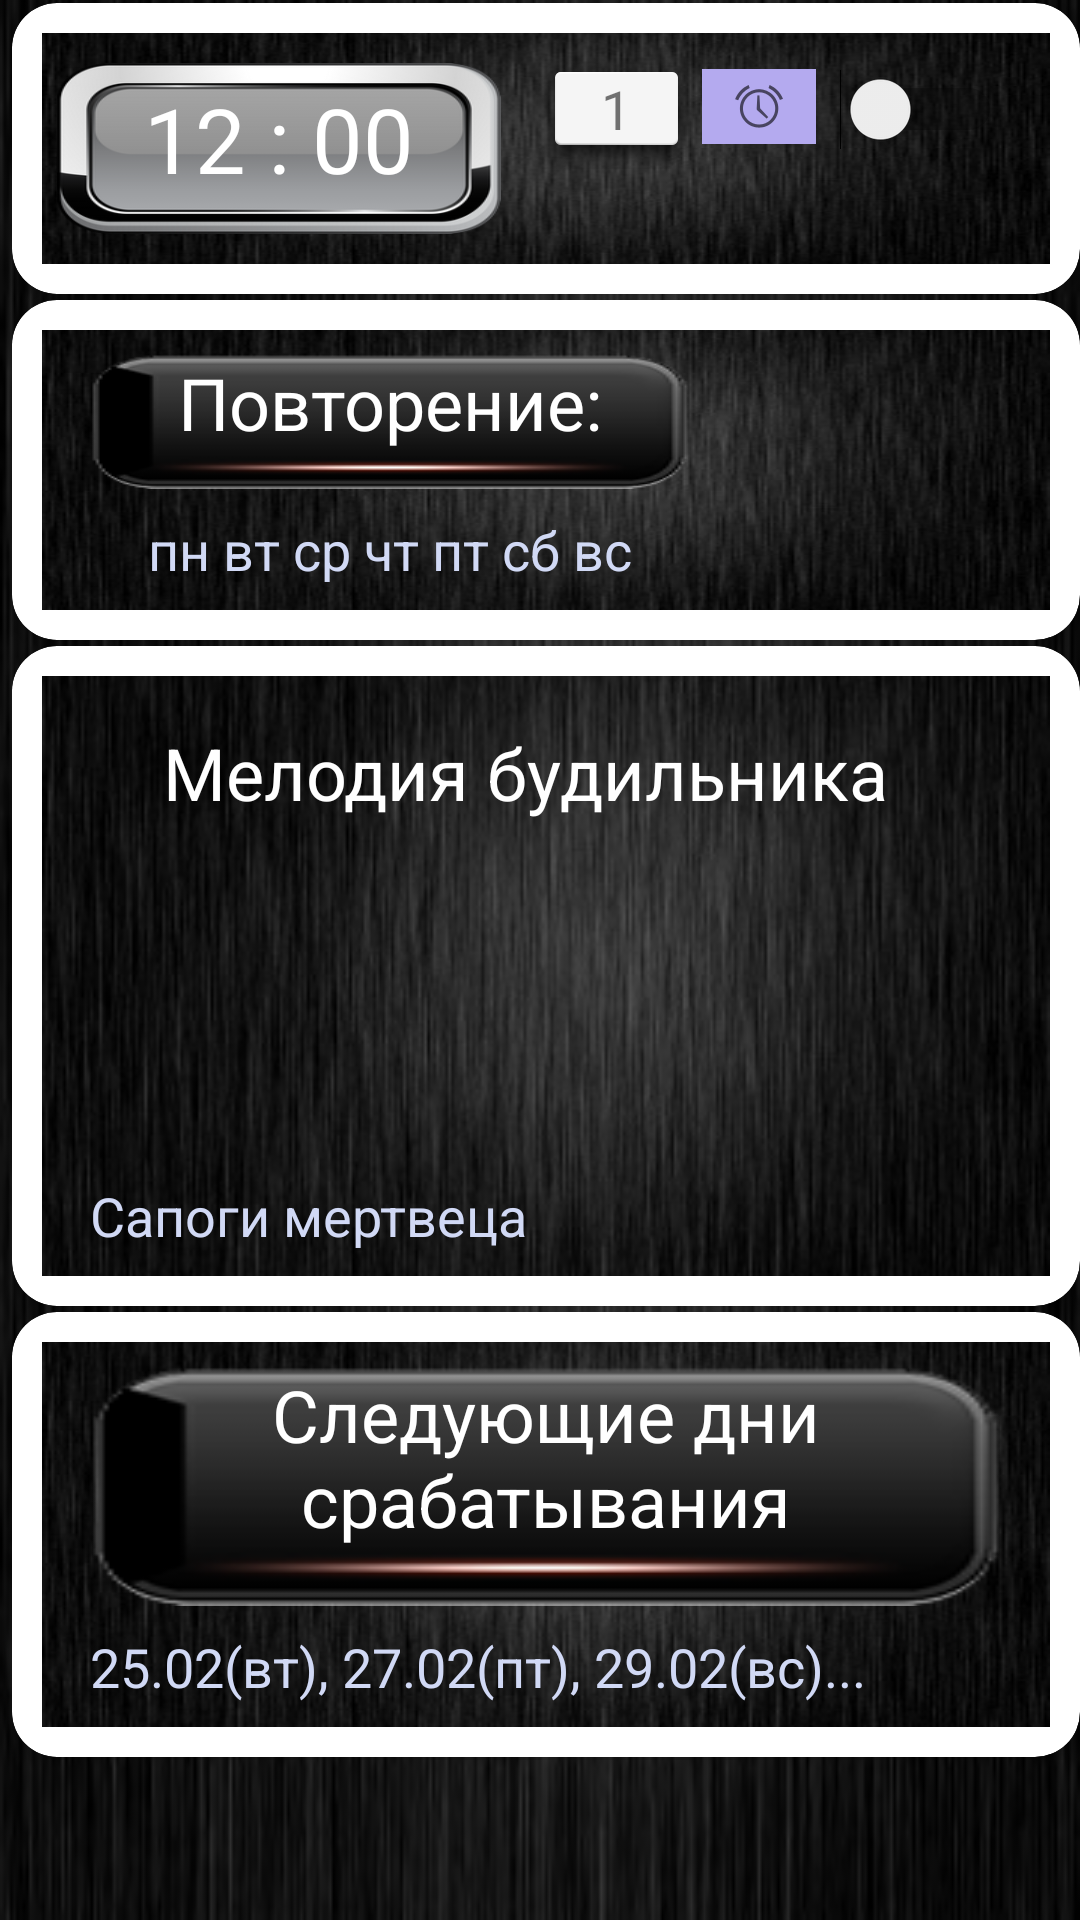

Screen size 1080 × 1920. Icon name, then its box in pixels as (x1, y1, x2, y2):
lock idle alarm: (702, 69, 816, 144)
